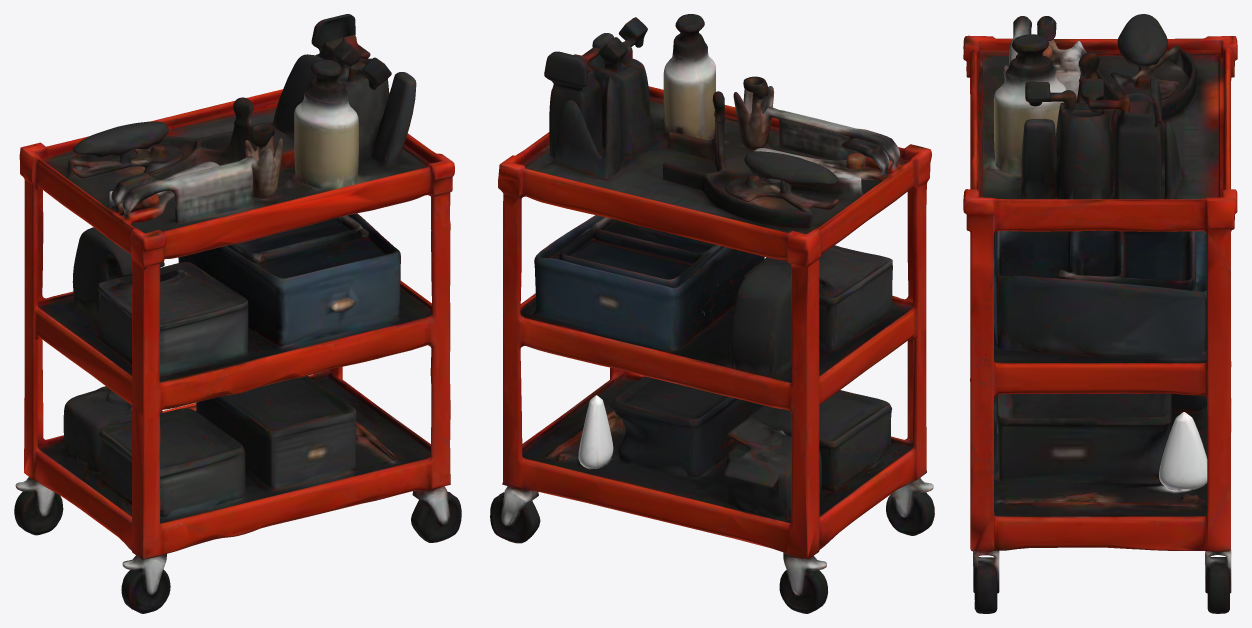
File: tool-trolley.glb
The picture shows the model from 3 angles, left to right: view 1: azimuth 30°, elevation 25°; view 2: azimuth 150°, elevation 25°; view 3: azimuth 270°, elevation 25°; orthographic projection. The views are drawn at different scales.
Visible parts, largest first — view 1: node_0; view 2: node_0; view 3: node_0.
Boxes of the visible parts, <box> form: node_0: <box>14,14,461,613</box>; node_0: <box>490,14,934,613</box>; node_0: <box>963,14,1237,613</box>.
Bounding box in the file's own units: 0.6833 × 0.9435 × 0.4469.
1 material, 1 textured.
